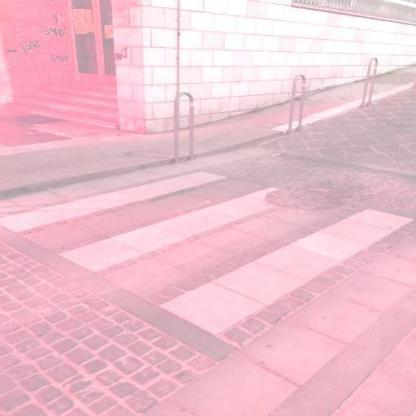crosswalk: (0, 166, 296, 276)
